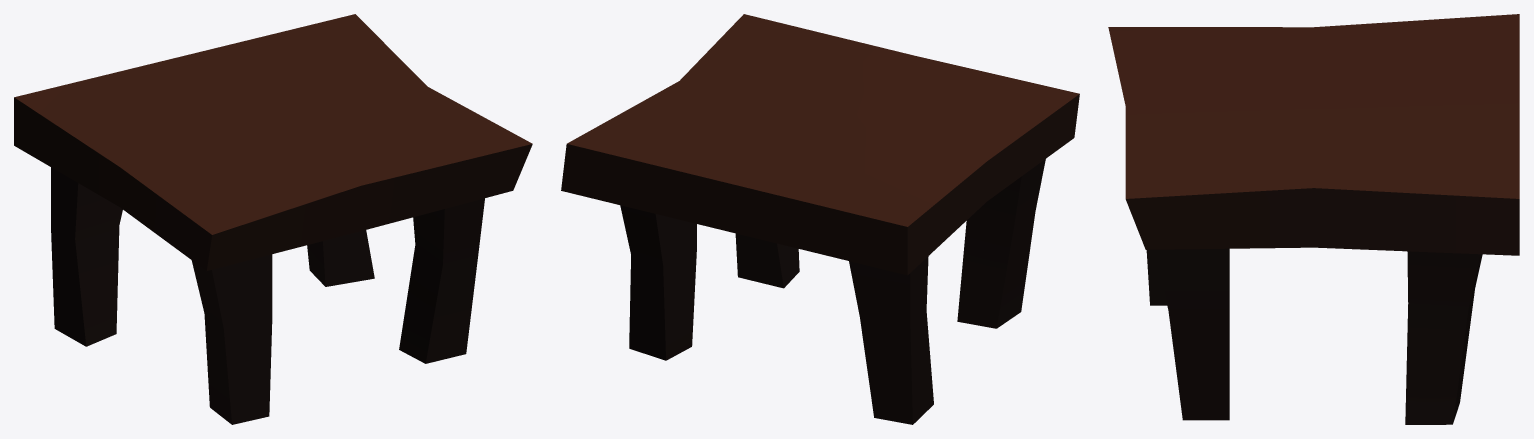
Rendered from chair1.fbx.
3 renders of one model, left to right at view 1: azimuth 30°, elevation 25°; view 2: azimuth 150°, elevation 25°; view 3: azimuth 270°, elevation 25°, orthographic. The views are drawn at different scales.
Visible parts, largest first — view 1: polySurface48; view 2: polySurface48; view 3: polySurface48.
Boxes of the visible parts, box(x1,y1,x2,y2) form: polySurface48: box(14, 14, 532, 424); polySurface48: box(561, 14, 1079, 424); polySurface48: box(1108, 14, 1519, 424).
Bounding box in the file's own units: 0.9245 × 0.5579 × 0.8547.
